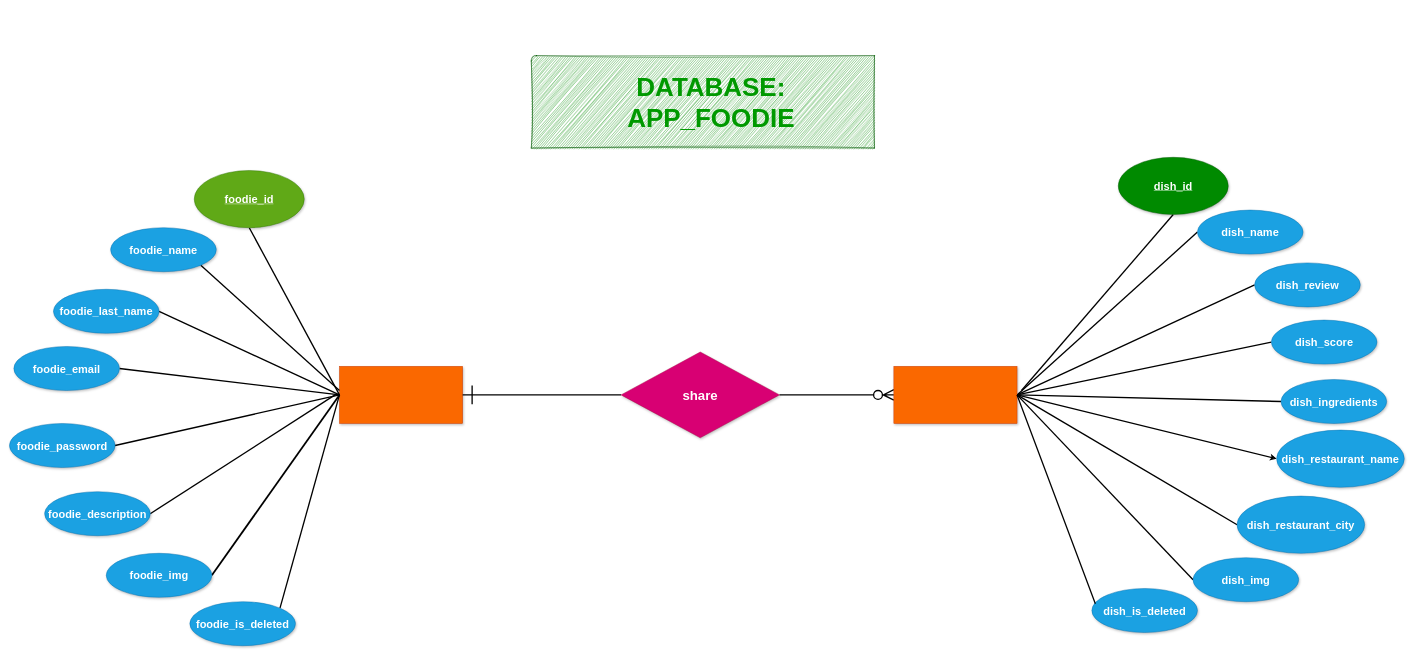
Image size: 1415x656. Some labels were removed from this diagram. Each missing label, with the centre of its shape:
"dish" goes at (956,395).
"foodie" goes at (401,395).
